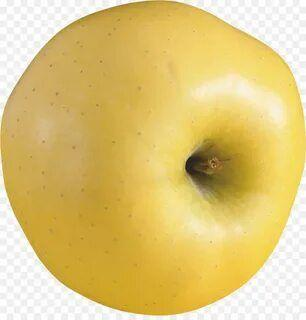Apple: (0, 2, 303, 316)
